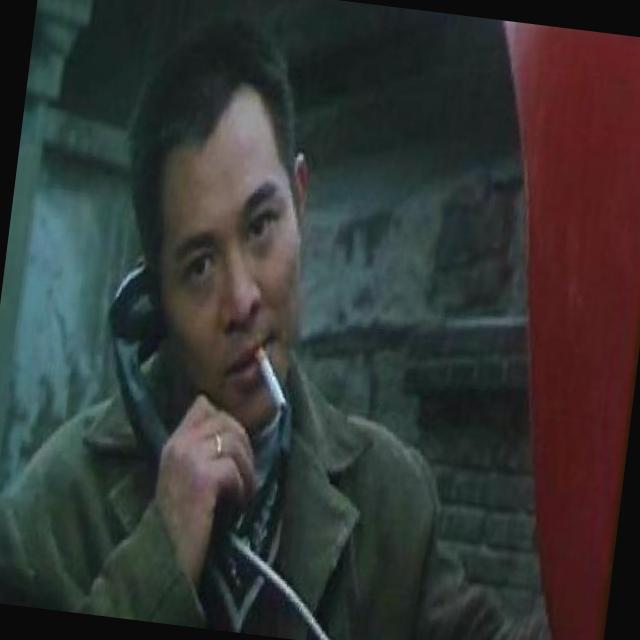cigarette: (246, 344, 296, 416)
